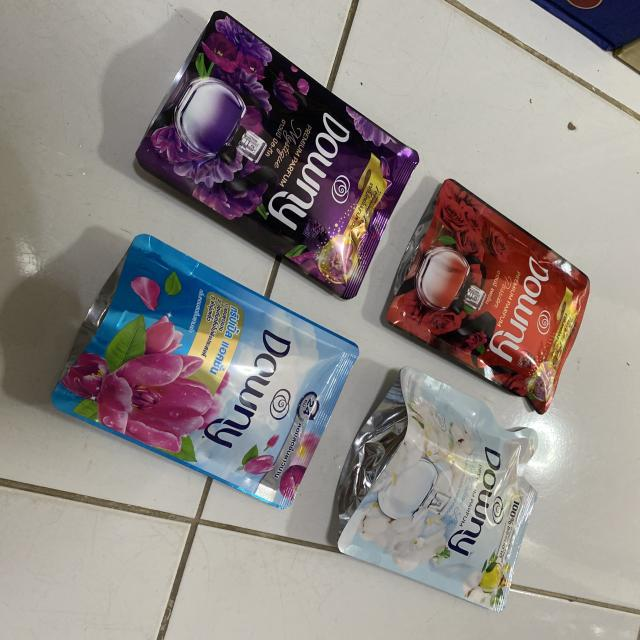plastik: (52, 235, 359, 509), (136, 11, 419, 299), (336, 368, 538, 611), (386, 179, 590, 414)
